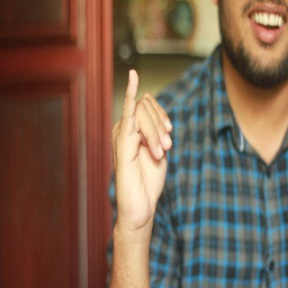I: (109, 69, 173, 223)
